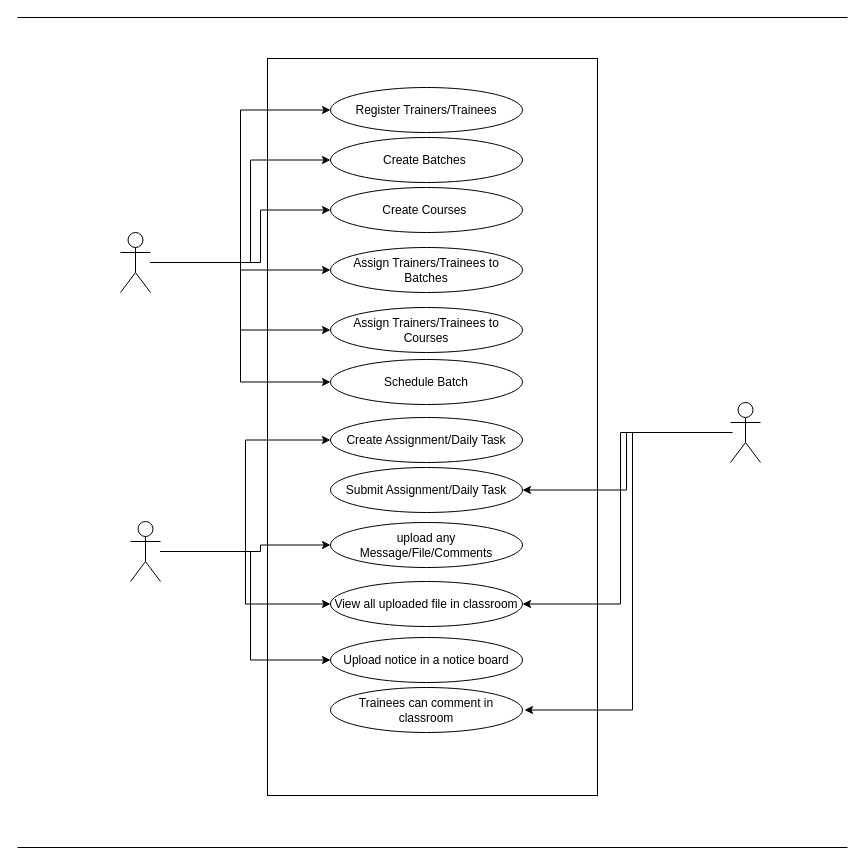
This 866x866 diagram has some shape labels left out. Here are the shapes that lost their labels. From the top down, the centre of each, then its label:
(x=135, y=262): Admin
(x=745, y=432): Trainee
(x=145, y=551): Trainer
